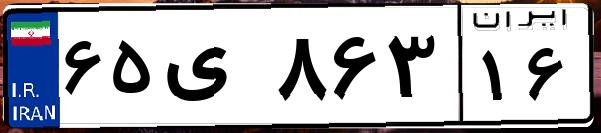1: (475, 38, 525, 113)
3: (385, 28, 445, 110)
5: (110, 28, 158, 98)
6: (330, 28, 385, 110), (57, 26, 110, 100), (525, 38, 570, 115)
8: (270, 28, 330, 110)
ی: (158, 20, 270, 120)
